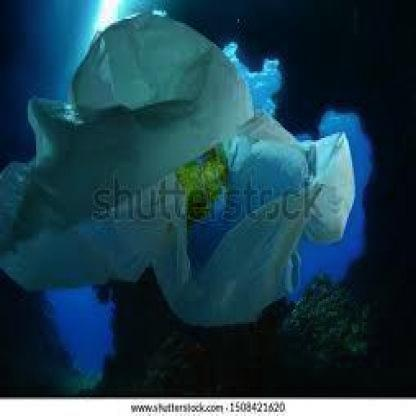pbag: (2, 13, 358, 324)
